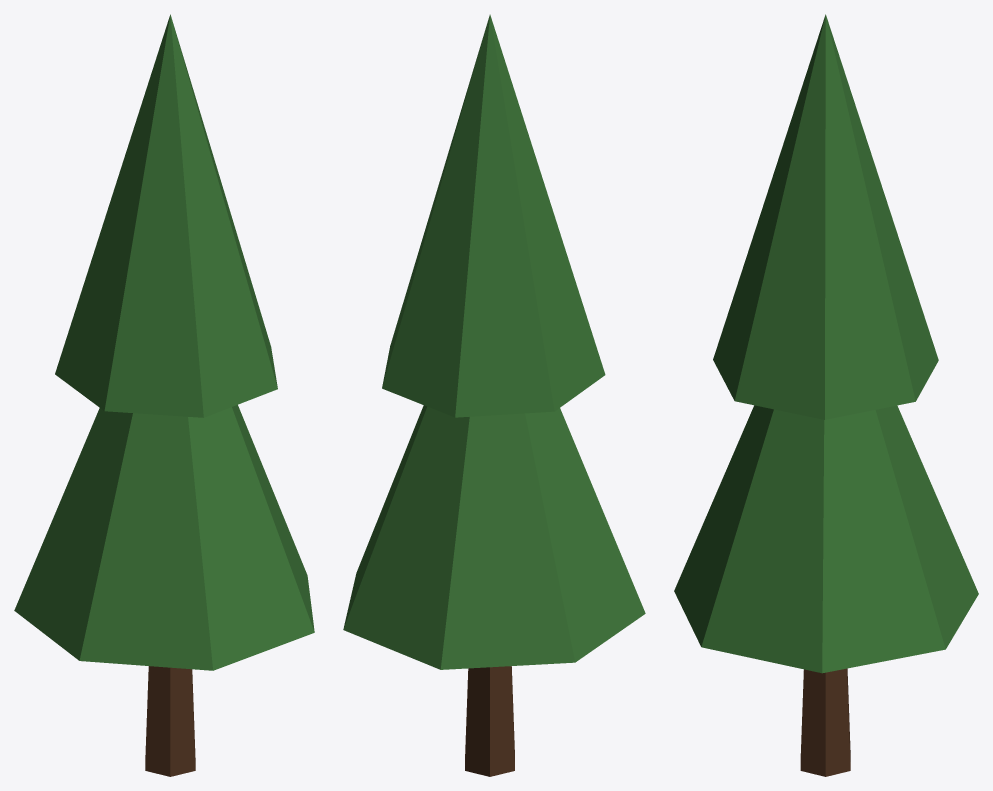
Rendered from tree_cone_dark.glb.
3 renders of one model, left to right at view 1: azimuth 30°, elevation 25°; view 2: azimuth 150°, elevation 25°; view 3: azimuth 270°, elevation 25°, orthographic.
Parts seen in each view (by area): view 1: tree_cone_dark; view 2: tree_cone_dark; view 3: tree_cone_dark.
Boxes of the visible parts, bbox=[...] form: tree_cone_dark: bbox=[14, 14, 314, 776]; tree_cone_dark: bbox=[343, 14, 645, 776]; tree_cone_dark: bbox=[674, 14, 978, 776].
Bounding box in the file's own units: 0.5157 × 1.43 × 0.5263.
Materials: 1 (1 with a texture image).
